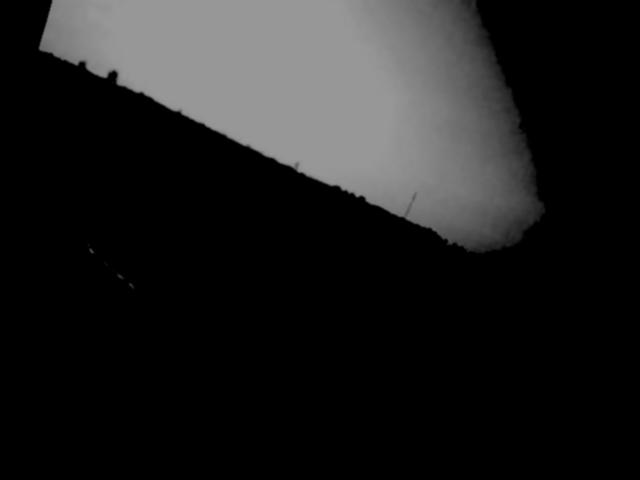hedef: (0, 179, 168, 326)
